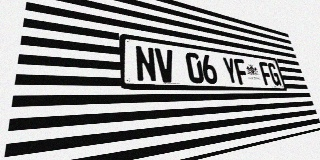0: (185, 52, 205, 84)
6: (200, 54, 219, 84)
F: (233, 58, 250, 85), (258, 61, 274, 85)
G: (267, 63, 282, 86)
N: (134, 45, 158, 82)
V: (155, 48, 177, 83)
Y: (221, 57, 239, 85)
